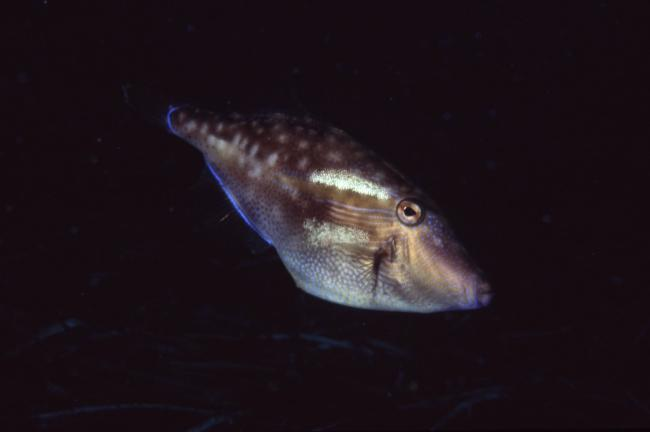fish: (166, 102, 491, 310)
